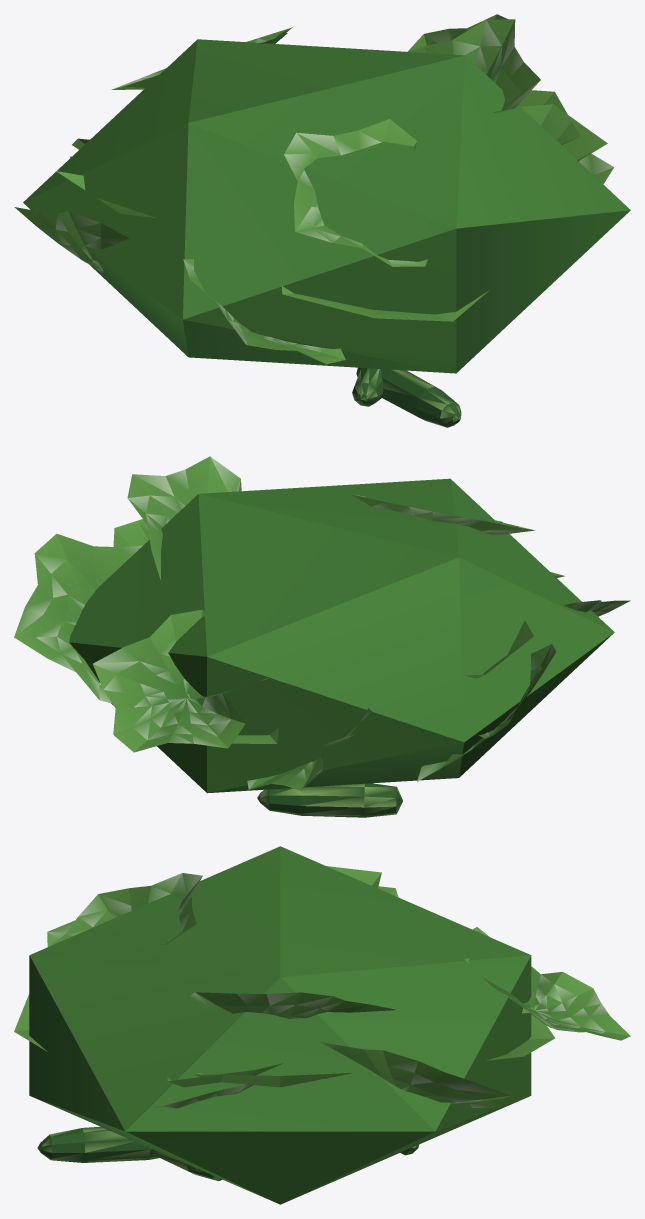
File: zucchini.glb
3 views of the same model, one above another, from view 1: azimuth 30°, elevation 25°; view 2: azimuth 150°, elevation 25°; view 3: azimuth 270°, elevation 25° (orthographic). The views are drawn at different scales.
Visible parts, largest first — view 1: leaves (×3), fruit; view 2: leaves (×3), fruit; view 3: leaves (×3), fruit.
Part boxes in pixels (box(x1,y1,x2,y2)): leaves (×3): box(14, 14, 630, 373); fruit: box(352, 367, 461, 427); leaves (×3): box(14, 456, 630, 793); fruit: box(257, 783, 402, 817); leaves (×3): box(14, 846, 630, 1204); fruit: box(37, 1126, 418, 1181).
Size of the model in its own units: 1.91 by 1 by 2.13.
